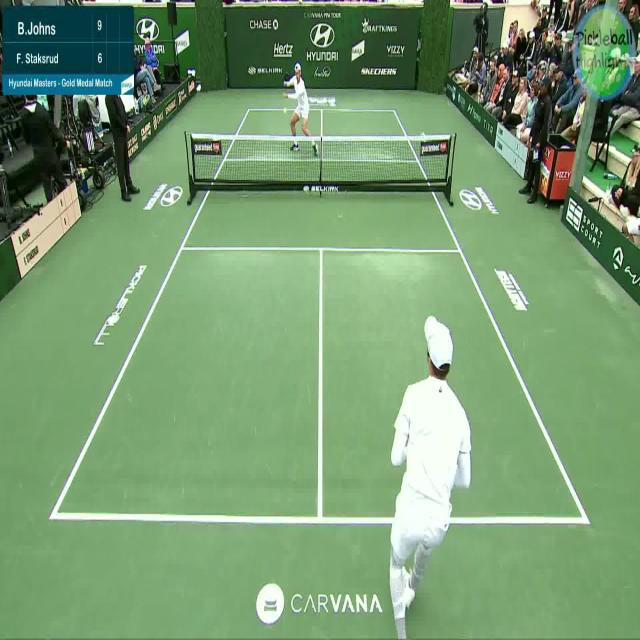ball: (280, 99, 291, 119)
